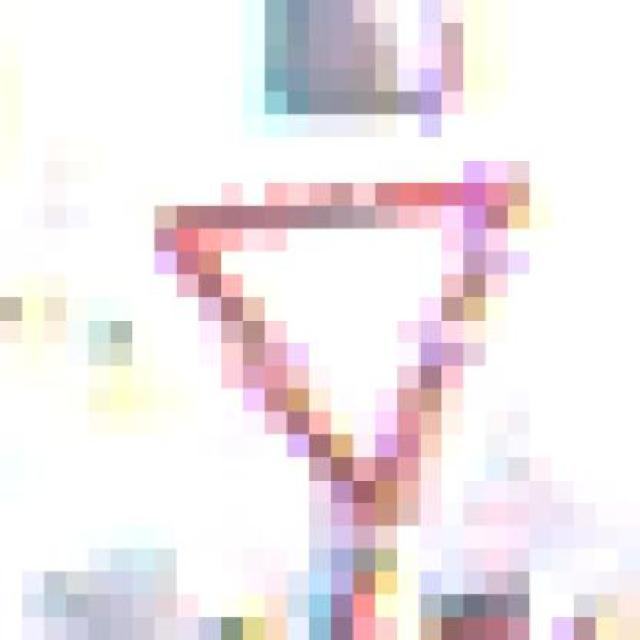Give Way: (110, 137, 596, 526)
